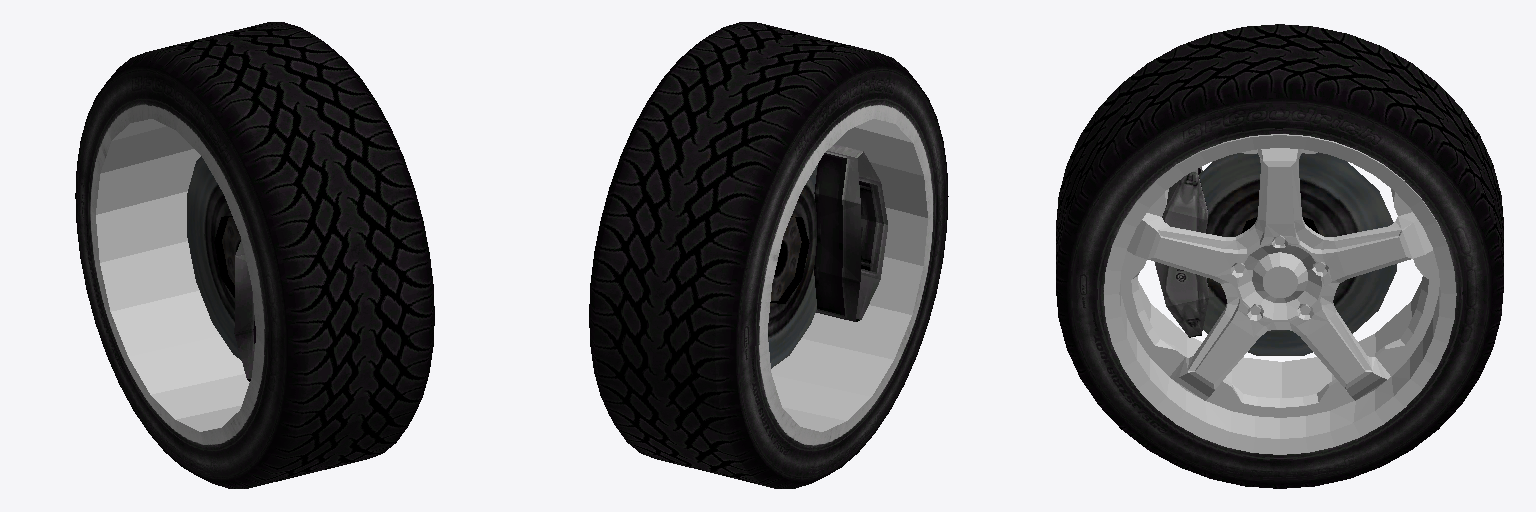
3 renders of one model, left to right at view 1: azimuth 30°, elevation 25°; view 2: azimuth 150°, elevation 25°; view 3: azimuth 270°, elevation 25°, orthographic.
Parts seen in each view (by area): view 1: obj187, obj186, obj176, obj196, obj182; view 2: obj187, obj186, obj176, obj182, obj196; view 3: obj176, obj186, obj187, obj196, obj182.
Boxes of the visible parts, box(x1,y1,x2,y2) form: obj187: box(107, 22, 434, 488); obj186: box(75, 66, 287, 481); obj176: box(96, 119, 249, 431); obj196: box(187, 156, 241, 360); obj182: box(234, 239, 255, 381); obj187: box(589, 22, 916, 488); obj186: box(735, 66, 948, 481); obj176: box(771, 119, 927, 431); obj182: box(814, 144, 887, 321); obj196: box(768, 165, 817, 368); obj176: box(1104, 134, 1456, 454); obj186: box(1066, 98, 1493, 484); obj187: box(1056, 24, 1503, 488); obj196: box(1199, 152, 1396, 355); obj182: box(1155, 167, 1208, 337).
Size of the model in its own units: 1.12 by 2.72 by 2.72.
5 materials, 4 textured.